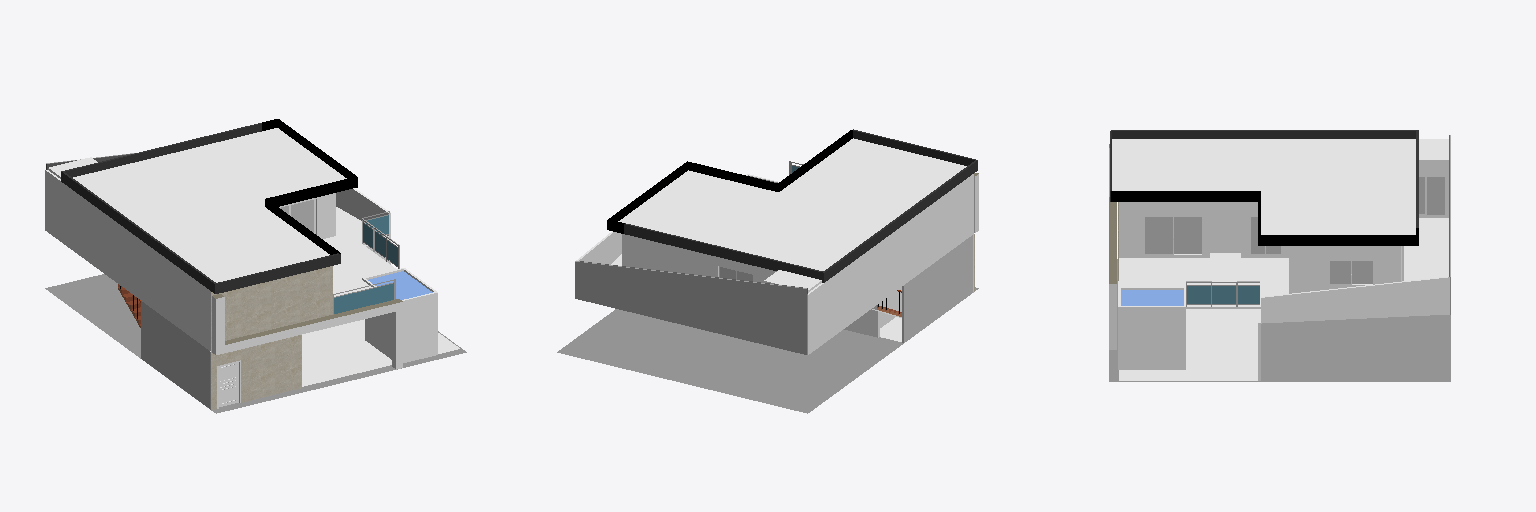
3 views of the same model, side by side, from view 1: azimuth 30°, elevation 25°; view 2: azimuth 150°, elevation 25°; view 3: azimuth 270°, elevation 25° (orthographic).
Visible parts, largest first — view 1: room_67_371, wall_37_221, wall_44_263, ground_1, room_62_364, wall_4_23, wall_10_59, wall_12_71, room_66_370, wall_25_149, wall_15_89, wall_14_82 (+17 smaller); view 2: room_67_371, ground_1, wall_1_5, wall_37_221, wall_4_23, wall_39_232, wall_14_83, wall_25_149, wall_15_89, wall_36_215, wall_24_143, wall_13_76 (+8 smaller); view 3: room_67_371, ground_1, wall_2_11, room_66_370, wall_19_113, wall_30_178, room_78_392, room_62_364, wall_15_88, wall_26_155, room_64_368, wall_42_251 (+9 smaller).
Boxes of the visible parts, x1,y1,x2,y2 form: room_67_371: [73, 128, 346, 282]; wall_37_221: [69, 188, 161, 315]; wall_44_263: [211, 266, 332, 351]; ground_1: [45, 274, 466, 413]; room_62_364: [302, 324, 391, 386]; wall_4_23: [141, 301, 195, 398]; wall_10_59: [245, 335, 301, 401]; wall_12_71: [403, 297, 436, 362]; room_66_370: [333, 244, 396, 296]; wall_25_149: [162, 256, 194, 337]; wall_15_89: [61, 172, 215, 293]; wall_14_82: [65, 124, 261, 177]; room_67_371: [618, 138, 966, 270]; ground_1: [557, 287, 978, 413]; wall_1_5: [575, 262, 806, 354]; wall_37_221: [832, 209, 925, 337]; wall_4_23: [903, 244, 960, 342]; wall_39_232: [622, 234, 698, 274]; wall_14_83: [624, 224, 823, 282]; wall_25_149: [926, 188, 954, 268]; wall_15_89: [824, 161, 977, 282]; wall_36_215: [807, 278, 831, 354]; wall_24_143: [955, 174, 973, 247]; wall_13_76: [853, 131, 974, 165]; room_67_371: [1112, 139, 1415, 234]; ground_1: [1109, 259, 1450, 381]; wall_2_11: [1261, 277, 1449, 323]; room_66_370: [1118, 258, 1260, 308]; wall_19_113: [1118, 312, 1185, 369]; wall_30_178: [1289, 246, 1401, 293]; room_78_392: [1119, 350, 1257, 380]; room_62_364: [1186, 309, 1257, 349]; wall_15_88: [1112, 131, 1415, 138]; wall_26_155: [1119, 202, 1209, 257]; room_64_368: [1404, 218, 1448, 280]; wall_42_251: [1258, 236, 1418, 245].
Size of the model in its own units: 1356 by 664 by 1600.
Materials: 67 (2 with a texture image).